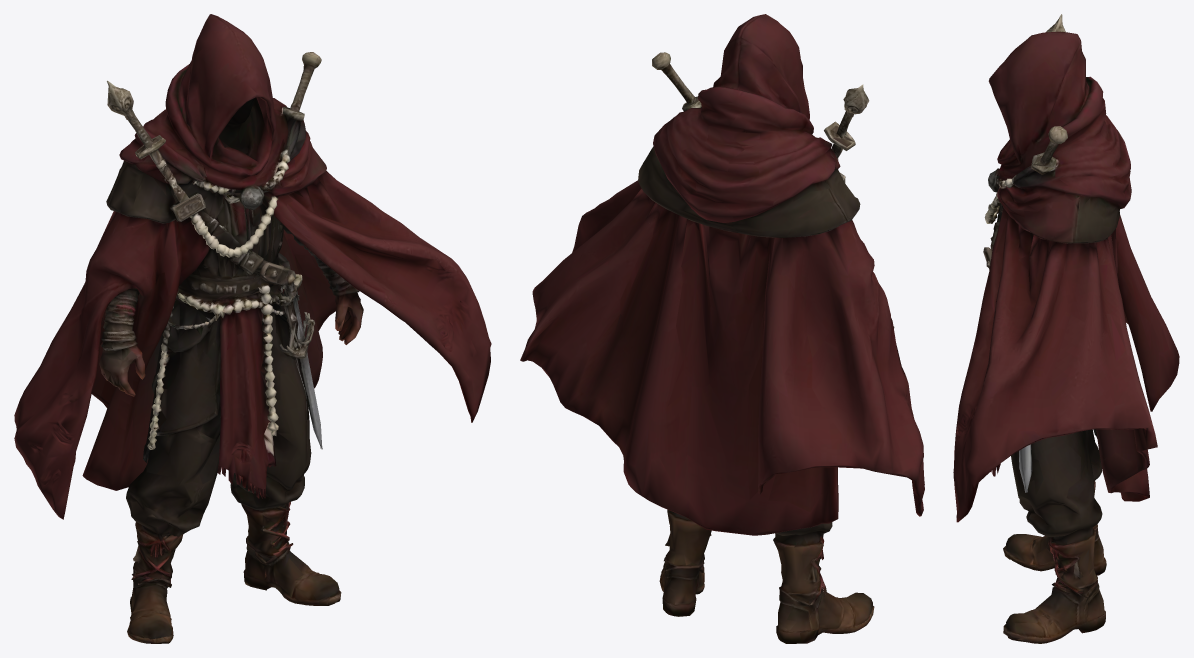
The model's file is blood_priest.glb.
3 views of the same model, side by side, from view 1: azimuth 30°, elevation 25°; view 2: azimuth 150°, elevation 25°; view 3: azimuth 270°, elevation 25° (orthographic). The views are drawn at different scales.
Parts seen in each view (by area): view 1: tripo_node_bf33b3b1; view 2: tripo_node_bf33b3b1; view 3: tripo_node_bf33b3b1.
Part boxes in pixels (x1=…): tripo_node_bf33b3b1: x1=14, y1=14, x2=491, y2=643; tripo_node_bf33b3b1: x1=520, y1=14, x2=924, y2=643; tripo_node_bf33b3b1: x1=953, y1=14, x2=1179, y2=643.
Size of the model in its own units: 1.35 by 1.85 by 0.6678.
1 material, 1 textured.
